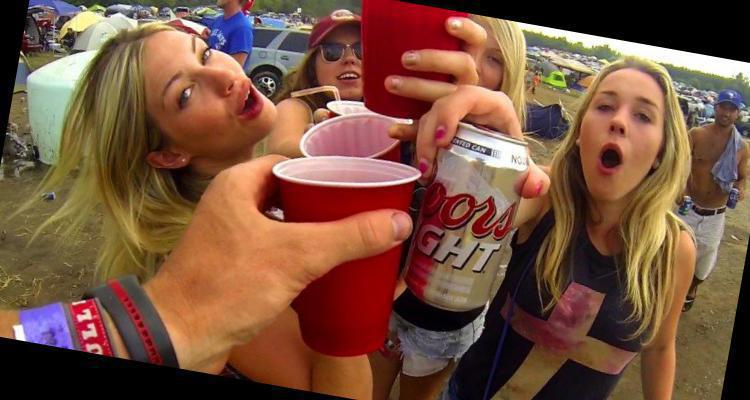Drunk: (140, 29, 275, 141), (587, 70, 662, 198)
